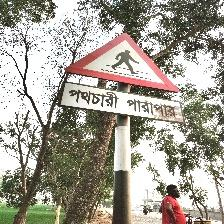Pedestrian-crossing: (60, 32, 184, 123)
